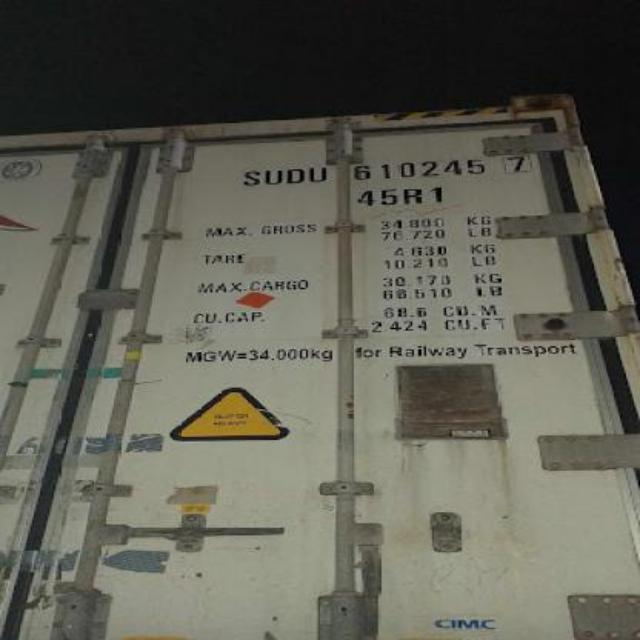0: (398, 153, 418, 180)
1: (377, 159, 398, 185)
2: (416, 154, 442, 182)
4: (442, 154, 466, 182)
5: (464, 152, 488, 182)
6: (348, 159, 369, 185)
7: (498, 148, 538, 178)
D: (282, 160, 302, 190)
S: (238, 167, 262, 190)
U: (302, 162, 330, 190), (262, 165, 282, 188)
